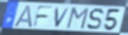5: (102, 8, 124, 32)
A: (12, 4, 33, 29)
F: (31, 5, 55, 28)
M: (65, 7, 90, 31)
S: (86, 7, 105, 31)
V: (54, 7, 71, 29)
